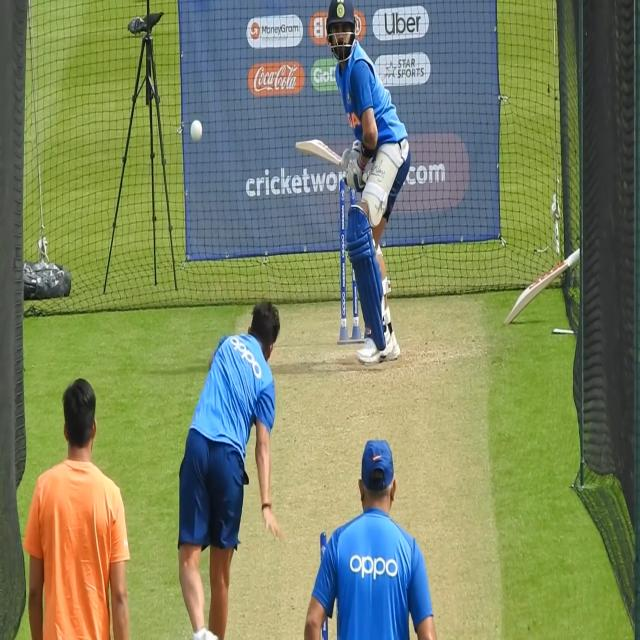Cricket ball: (189, 115, 204, 147)
